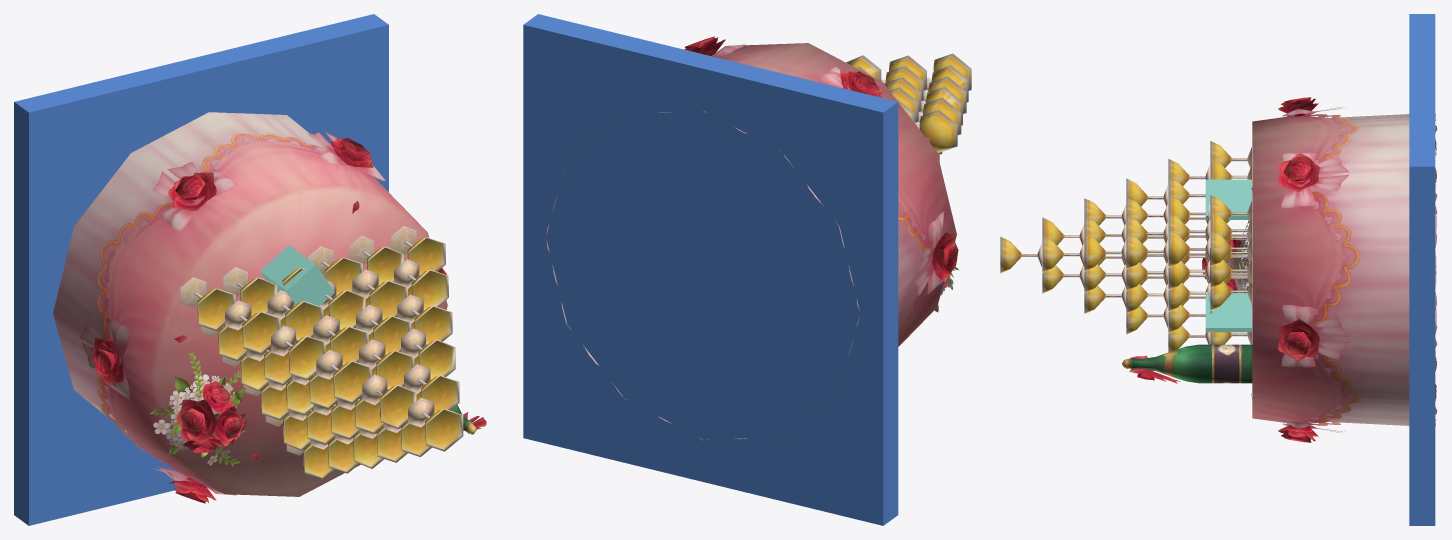
3 renders of one model, left to right at view 1: azimuth 30°, elevation 25°; view 2: azimuth 150°, elevation 25°; view 3: azimuth 270°, elevation 25°, orthographic. The views are drawn at different scales.
Parts seen in each view (by area): view 1: "Editable Poly", Box@#1, KNOCK, Box; view 2: Box@#1, "Editable Poly", KNOCK; view 3: "Editable Poly", KNOCK, Box@#1, Box@#0, Box.
Boxes of the visible parts, box(x1,y1,x2,y2) form: "Editable Poly": box(53, 112, 448, 503); Box@#1: box(14, 14, 388, 525); KNOCK: box(225, 280, 486, 479); Box: box(260, 245, 334, 306); Box@#1: box(523, 14, 898, 525); "Editable Poly": box(546, 36, 958, 440); KNOCK: box(846, 53, 971, 161); "Editable Poly": box(1168, 97, 1437, 442); KNOCK: box(1000, 159, 1252, 383); Box@#1: box(1409, 14, 1435, 525); Box@#0: box(1205, 291, 1251, 332); Box: box(1205, 179, 1251, 219).
Bounding box in the file's own units: 1.78 × 1.96 × 2.16.
